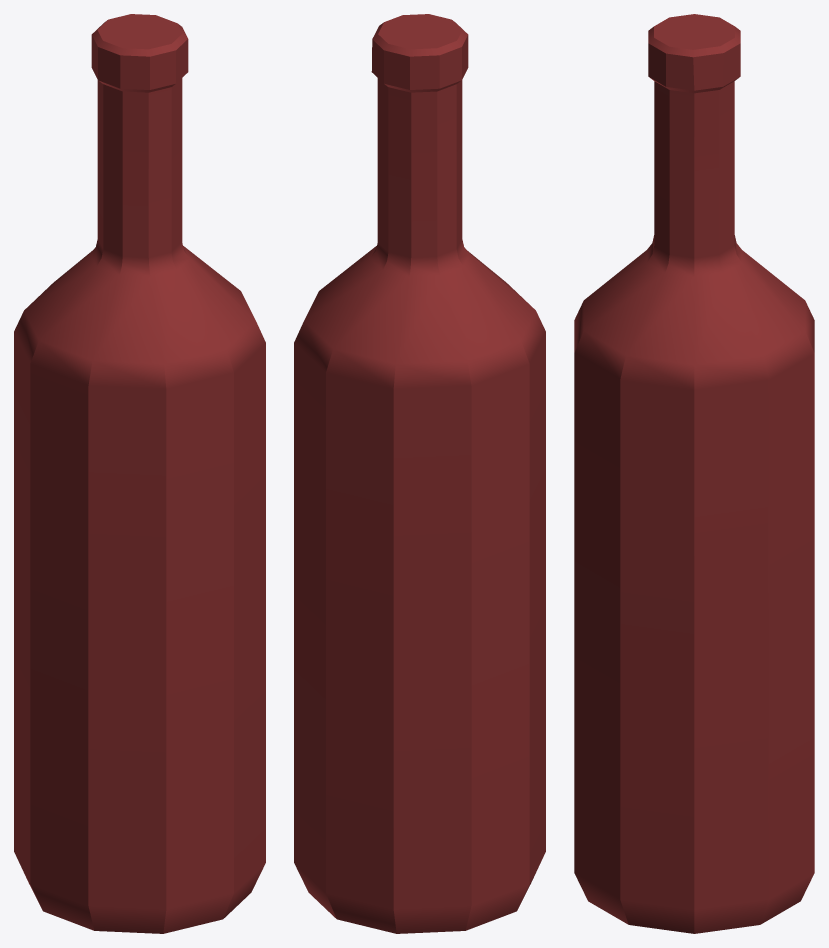
Rendered from bottle 1.fbx.
3 views of the same model, side by side, from view 1: azimuth 30°, elevation 25°; view 2: azimuth 150°, elevation 25°; view 3: azimuth 270°, elevation 25° (orthographic).
Parts seen in each view (by area): view 1: pCylinder14; view 2: pCylinder14; view 3: pCylinder14.
Part boxes in pixels (x1,y1,x2,y2): pCylinder14: (14, 14, 265, 933); pCylinder14: (294, 14, 545, 933); pCylinder14: (574, 14, 814, 933).
Bounding box in the file's own units: 0.2198 × 0.8318 × 0.209.
